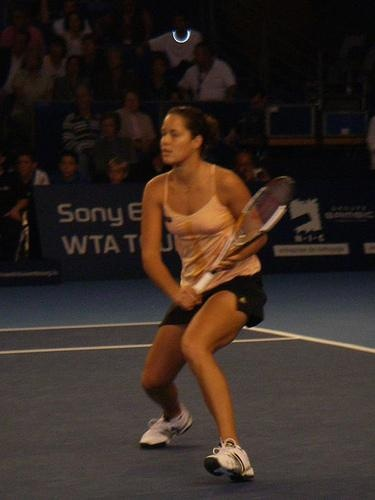person: (124, 102, 290, 476)
